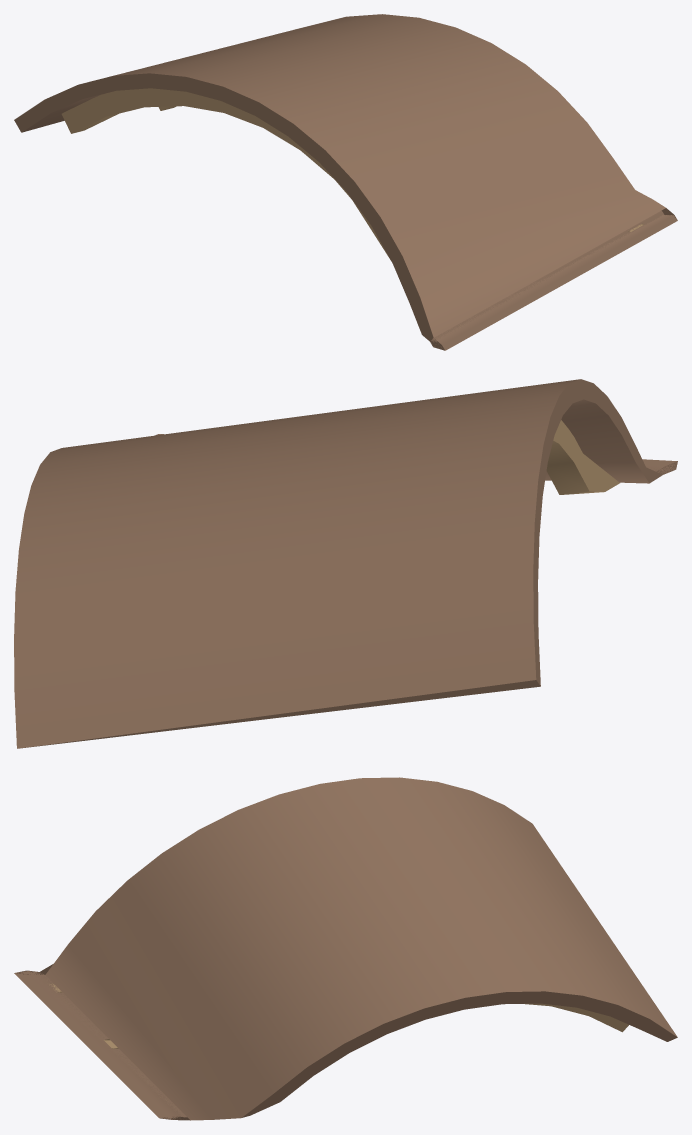
The model's file is ancient-hull-fragment-v01.glb.
3 views of the same model, one above another, from view 1: azimuth 30°, elevation 25°; view 2: azimuth 150°, elevation 25°; view 3: azimuth 270°, elevation 25° (orthographic). The views are drawn at different scales.
Parts seen in each view (by area): view 1: ancient-hull-fragment; view 2: ancient-hull-fragment; view 3: ancient-hull-fragment.
Boxes of the visible parts, x1,y1,x2,y2 form: ancient-hull-fragment: (14,14,677,350); ancient-hull-fragment: (14,379,677,748); ancient-hull-fragment: (14,777,677,1120).
Bounding box in the file's own units: 3.63 × 1.2 × 4.53.
